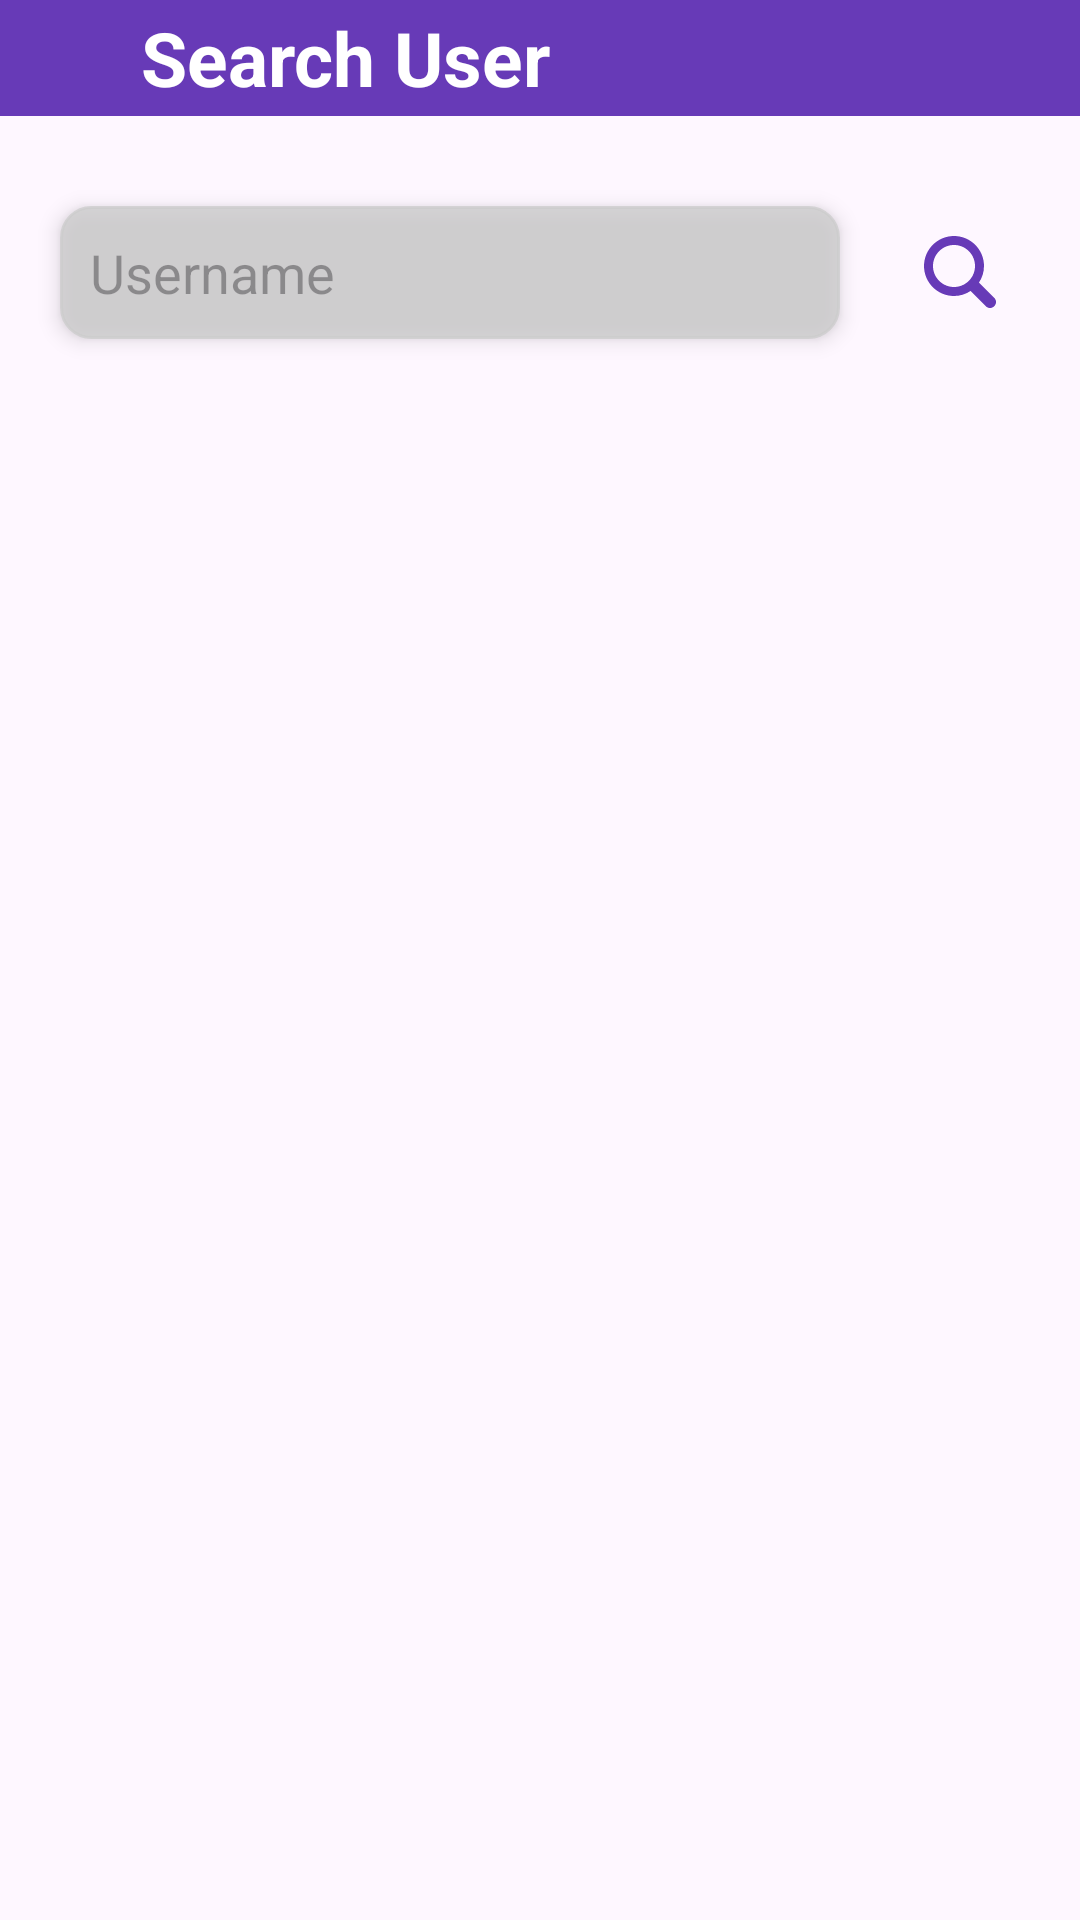

Where to tap for icons on this 1080x1920 app screen, as point (x, y):
search: point (960, 272)
